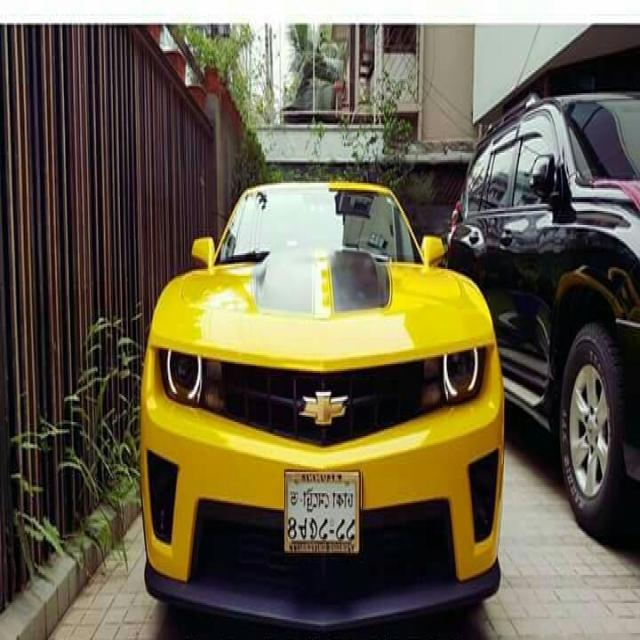numberplate: (284, 470, 362, 556)
